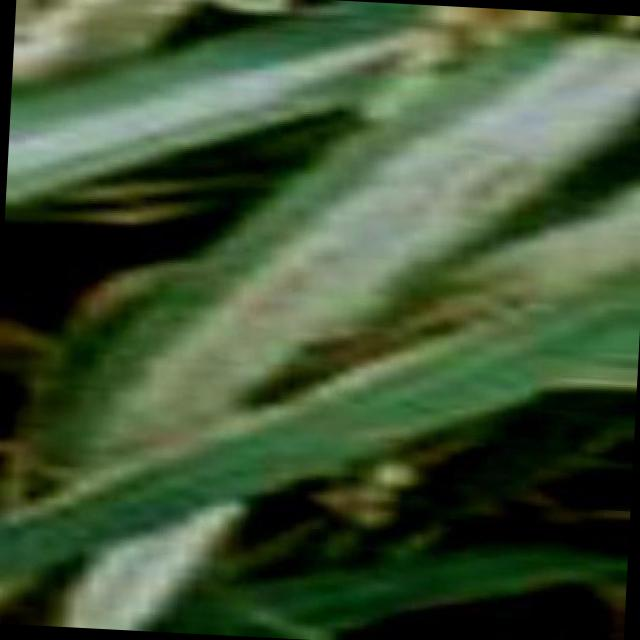Rice_Bacterial_Blight: (157, 13, 640, 399)
